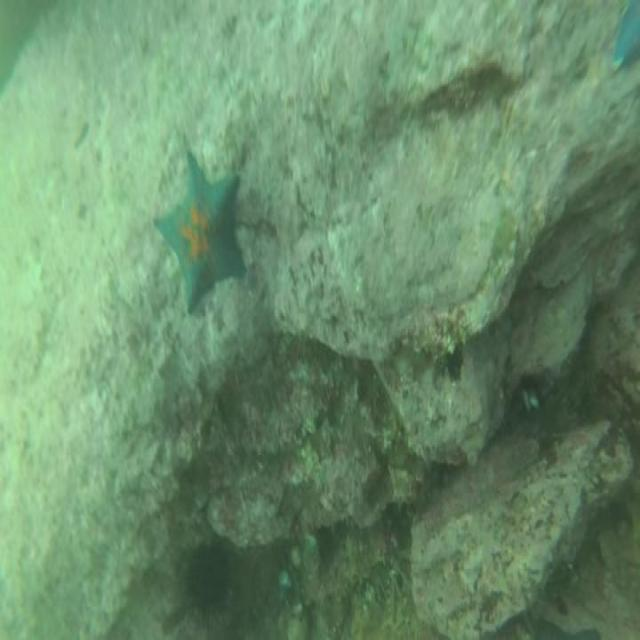echinus: (182, 536, 236, 621)
starfish: (151, 152, 248, 314), (609, 0, 640, 84)
